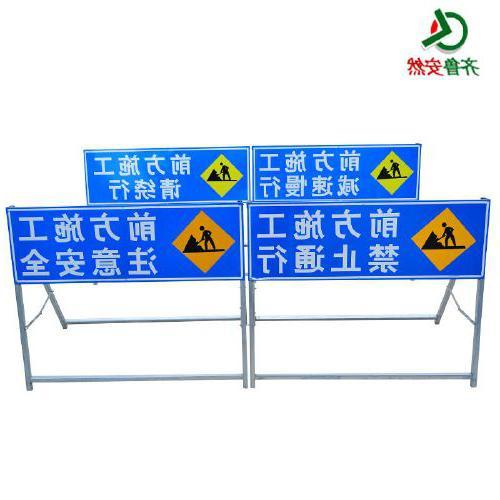sign: (7, 202, 243, 287), (249, 201, 491, 278), (81, 145, 250, 203), (254, 145, 420, 203)
